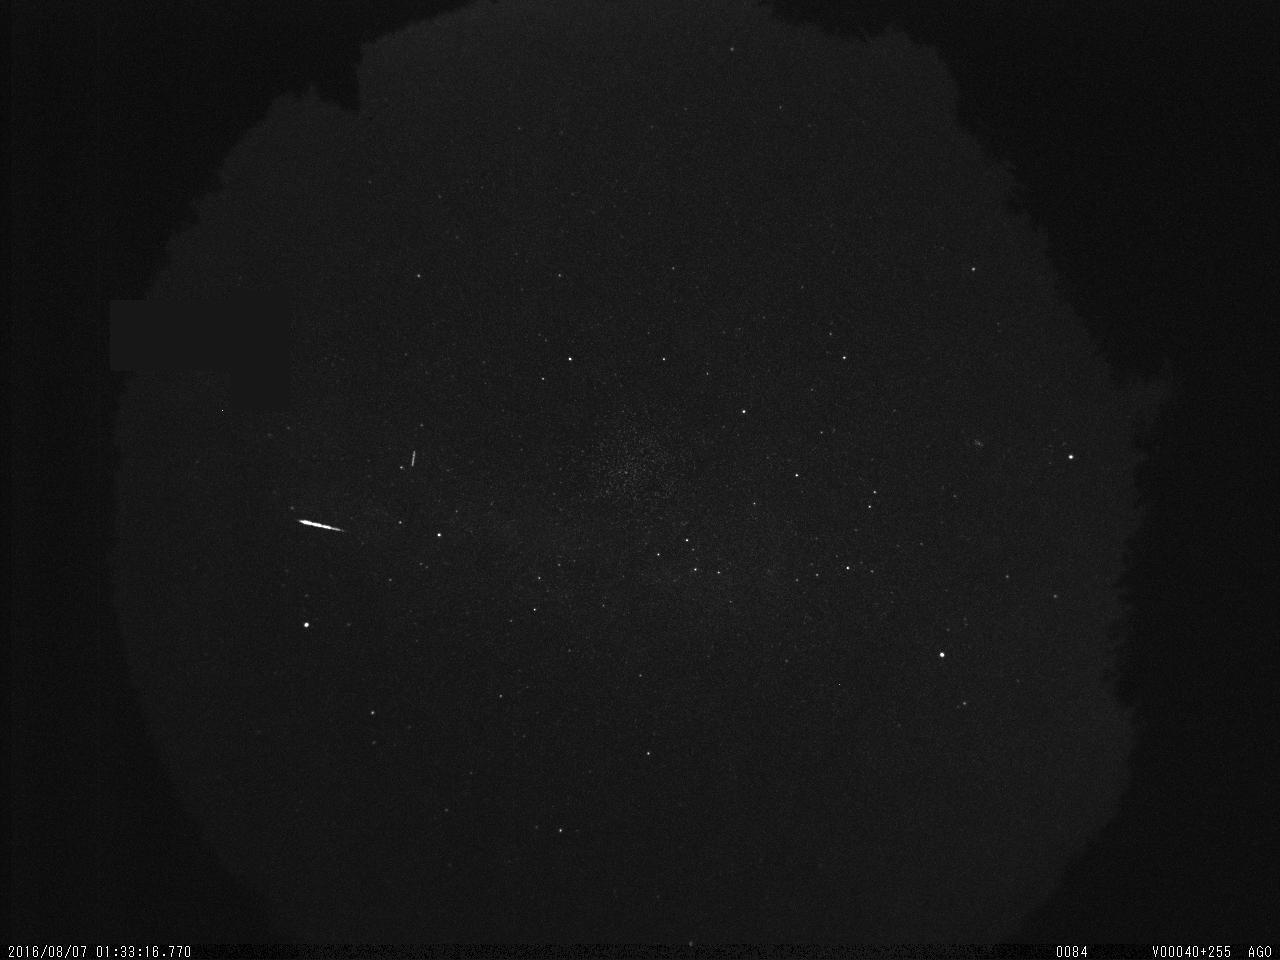Meteor: (294, 517, 347, 533), (408, 446, 420, 471)
